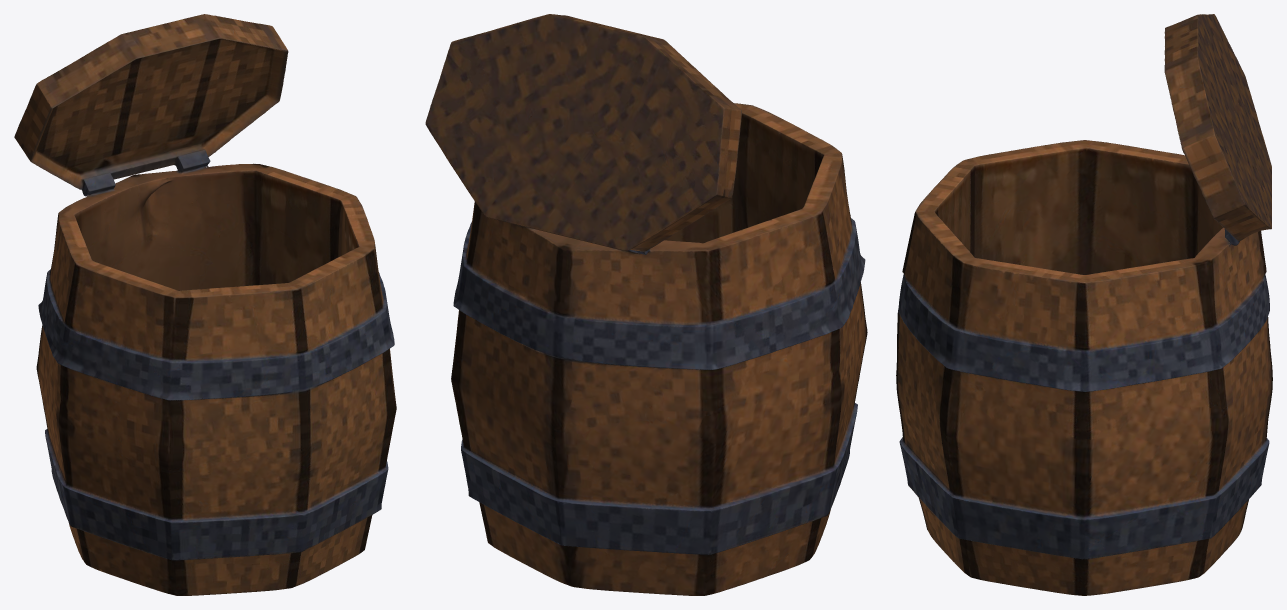
Rendered from barriovazil.glb.
The picture shows the model from 3 angles, left to right: view 1: azimuth 30°, elevation 25°; view 2: azimuth 150°, elevation 25°; view 3: azimuth 270°, elevation 25°; orthographic projection. The views are drawn at different scales.
Bounding box in the file's own units: 1.34 × 1.9 × 1.31.
Materials: 1 (1 with a texture image).
